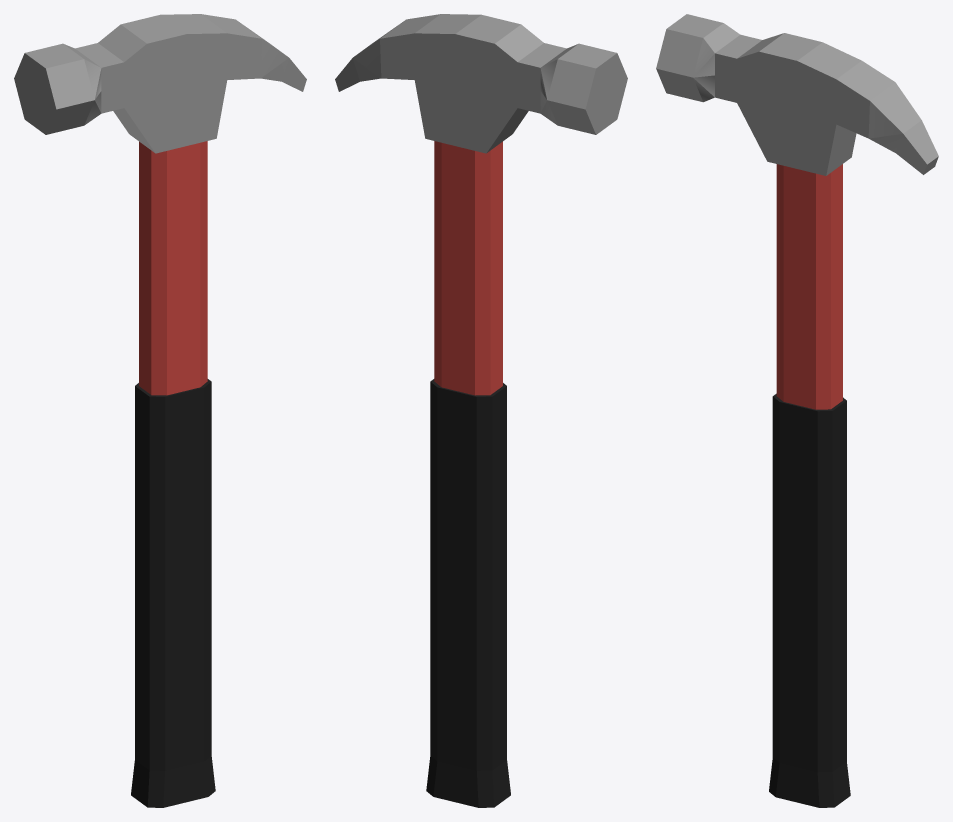
Rendered from ClawHammer_01.fbx.
3 renders of one model, left to right at view 1: azimuth 30°, elevation 25°; view 2: azimuth 150°, elevation 25°; view 3: azimuth 330°, elevation 25°, orthographic. The views are drawn at different scales.
Visible parts, largest first — view 1: ClawHammer_01; view 2: ClawHammer_01; view 3: ClawHammer_01.
Boxes of the visible parts, x1,y1,x2,y2 form: ClawHammer_01: (14, 14, 306, 807); ClawHammer_01: (335, 14, 627, 807); ClawHammer_01: (656, 14, 938, 807).
Size of the model in its own units: 0.1241 by 0.3431 by 0.0343.
